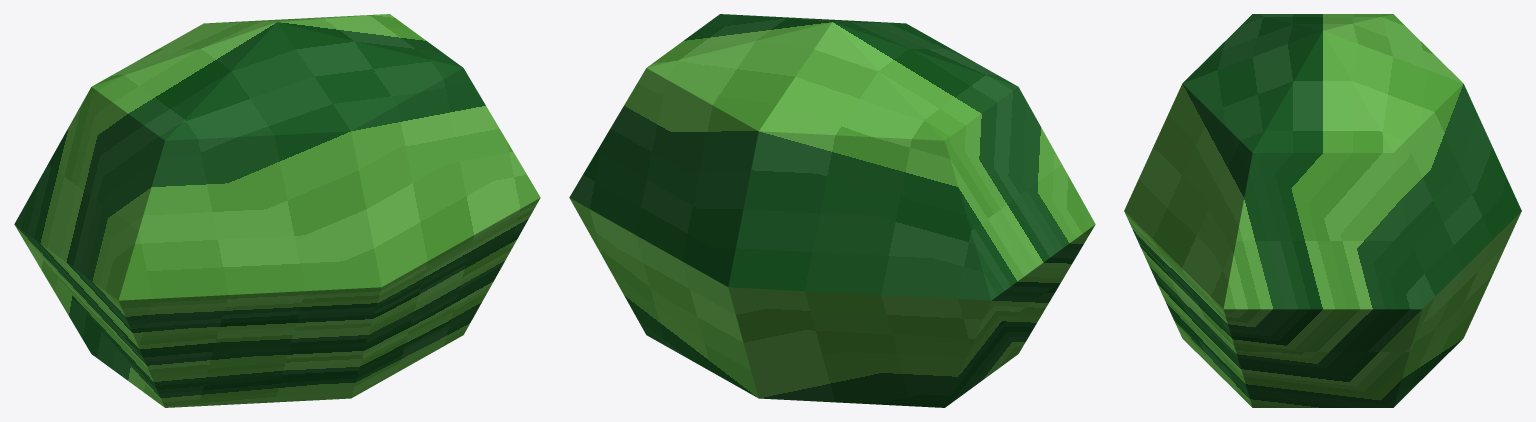
The model's file is fruit_watermelon.glb.
The picture shows the model from 3 angles, left to right: view 1: azimuth 30°, elevation 25°; view 2: azimuth 150°, elevation 25°; view 3: azimuth 270°, elevation 25°; orthographic projection. The views are drawn at different scales.
Parts seen in each view (by area): view 1: Body; view 2: Body; view 3: Body.
Part boxes in pixels (bbox=[...]): Body: bbox=[14, 14, 540, 407]; Body: bbox=[569, 14, 1095, 407]; Body: bbox=[1124, 14, 1521, 407].
Size of the model in its own units: 2.92 by 2.5 by 2.5.
1 material, 1 textured.
